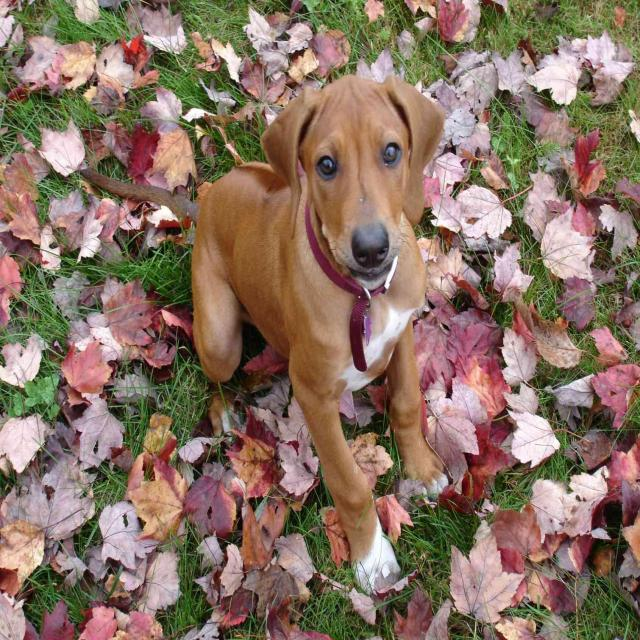rhodesian_ridgeback: (77, 71, 450, 596)
